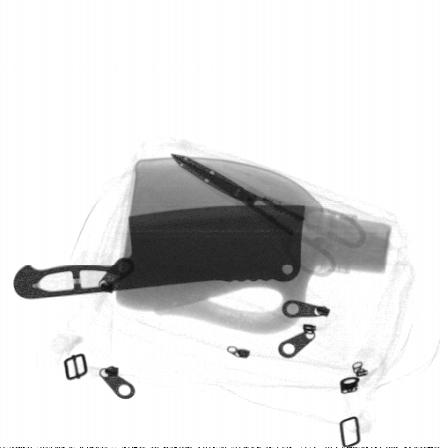Knife: (12, 206, 305, 300)
Scissors: (171, 153, 367, 278)
